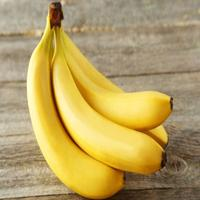banane: (26, 2, 178, 198)
